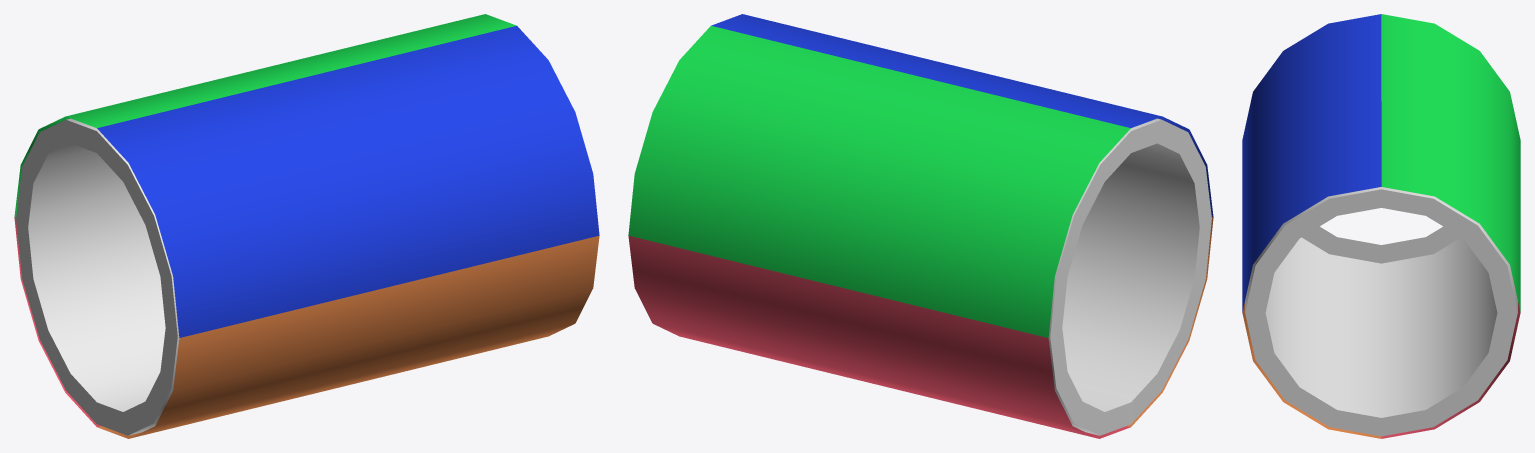
The model's file is Arm - Full.fbx.
3 renders of one model, left to right at view 1: azimuth 30°, elevation 25°; view 2: azimuth 150°, elevation 25°; view 3: azimuth 270°, elevation 25°, orthographic. The views are drawn at different scales.
Visible parts, largest first — view 1: Arm Info; view 2: Arm Info; view 3: Arm Info.
Part boxes in pixels (bbox=[...]): Arm Info: bbox=[14, 14, 599, 438]; Arm Info: bbox=[628, 14, 1213, 438]; Arm Info: bbox=[1242, 14, 1520, 438].
Size of the model in its own units: 0.6 by 0.408 by 0.408.
